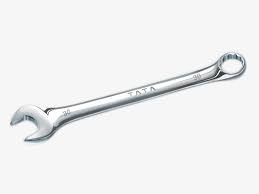wrench: (4, 48, 259, 150)
